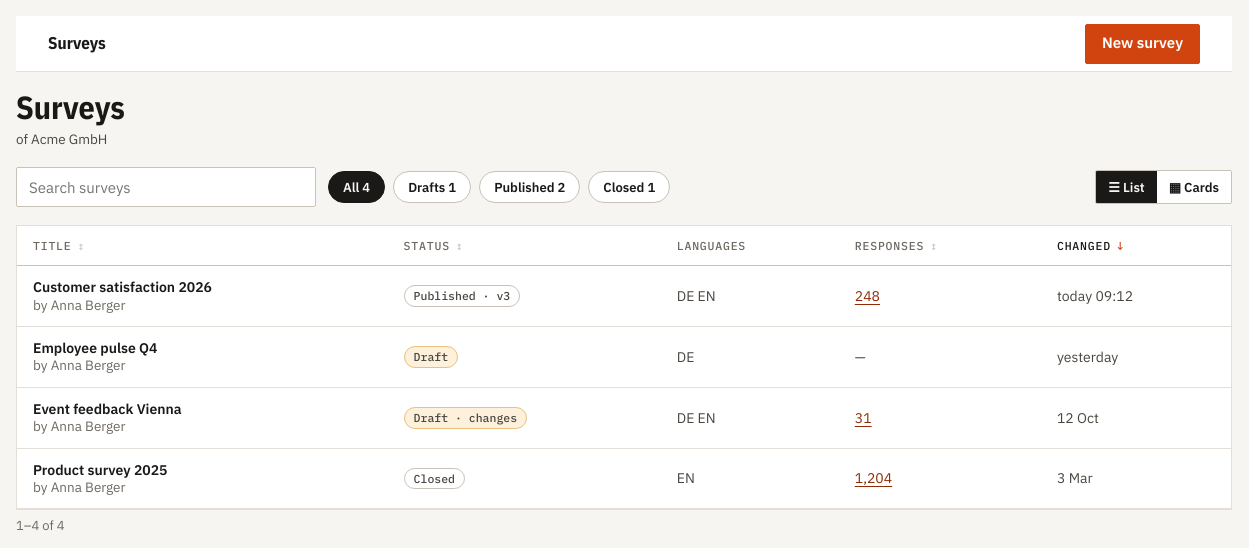
Test: SurveyListPage (W6) › says when no survey matches, with a way to clear the search (W13 E)
Check: the link "Employee pulse Q4" is shown, box [33,339,158,357]
In the search field labelled "Search surveys": coordinates (166, 187) [16,167,316,207], type "pulse 2025"
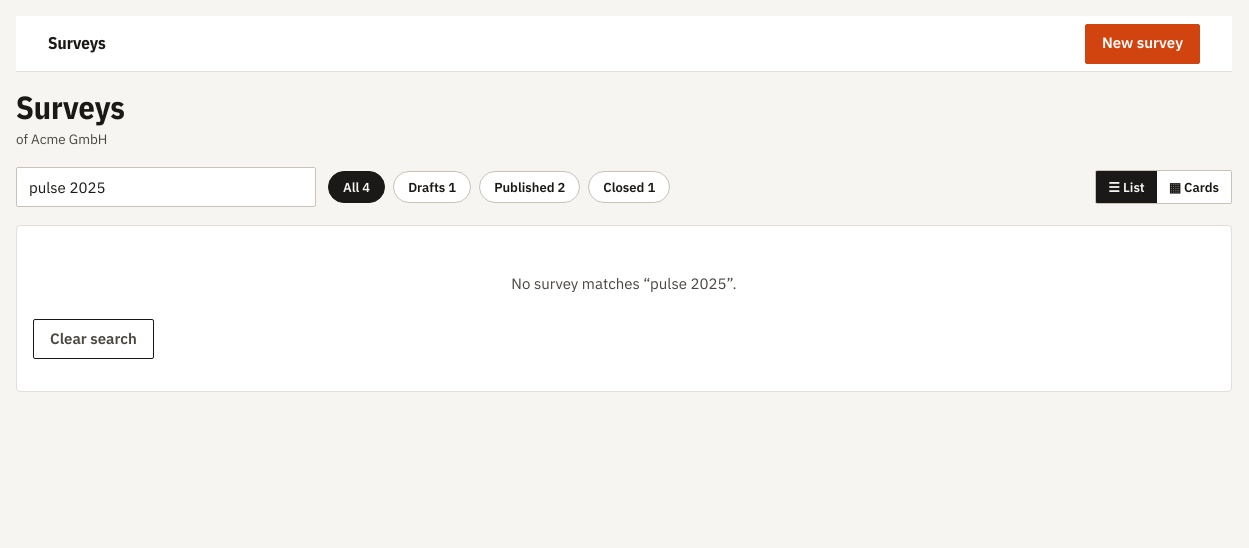
Check: the text "No survey matches “pulse 2025”." is shown, box [511,273,737,296]
Click the button "Clear search": coordinates (93, 339) [33,319,154,359]
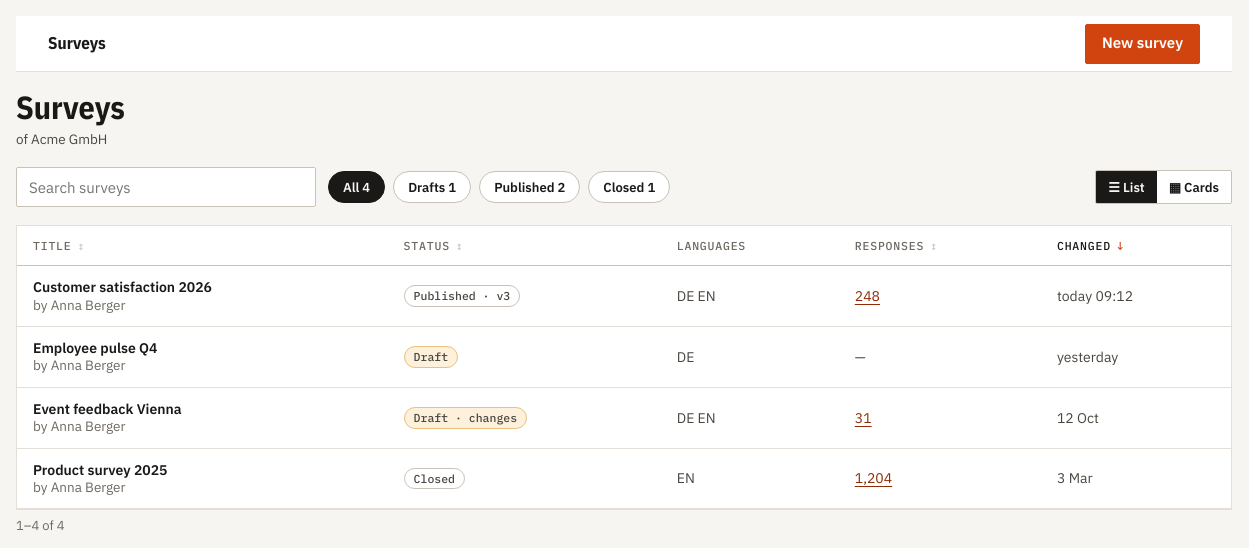
Check: the search field labelled "Search surveys" is empty, box [16,167,316,207]
